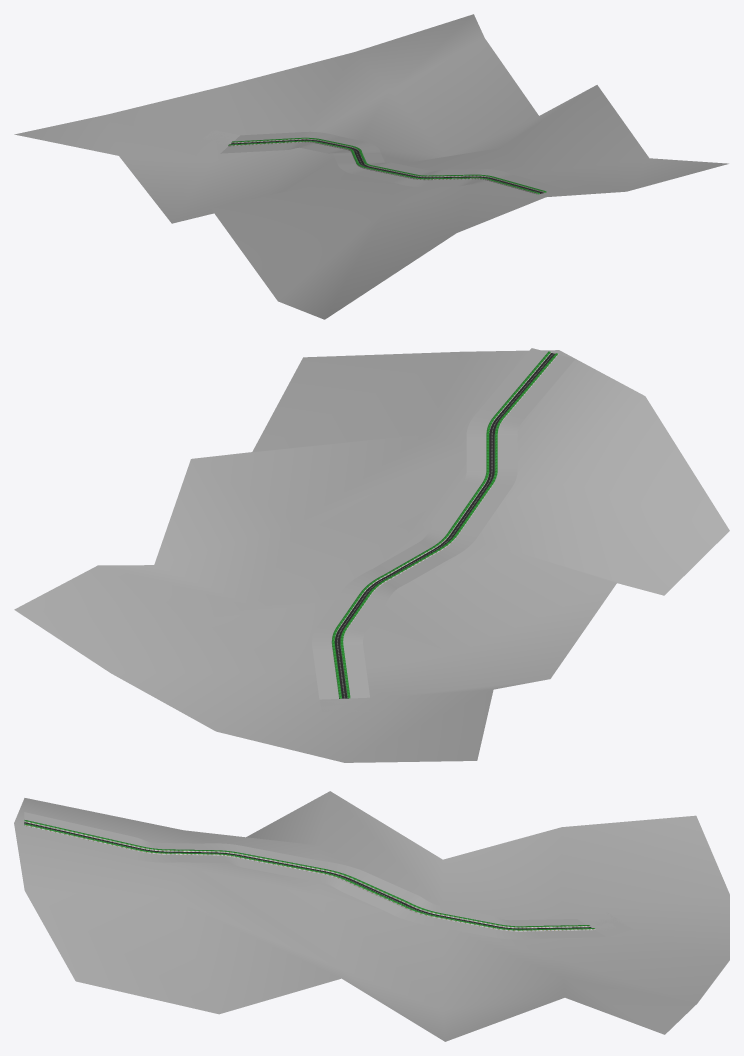
Rendered from OBJ_Course_Spring.fbx.
3 views of the same model, one above another, from view 1: azimuth 30°, elevation 25°; view 2: azimuth 150°, elevation 25°; view 3: azimuth 270°, elevation 25° (orthographic). The views are drawn at different scales.
Parts seen in each view (by area): view 1: OBJ_Course_easy1_0042:ambientLight2; view 2: OBJ_Course_easy1_0042:ambientLight2; view 3: OBJ_Course_easy1_0042:ambientLight2.
Boxes of the visible parts, left/top/right/bottom form: OBJ_Course_easy1_0042:ambientLight2: left=14, top=14, right=728, bottom=319; OBJ_Course_easy1_0042:ambientLight2: left=14, top=348, right=729, bottom=762; OBJ_Course_easy1_0042:ambientLight2: left=14, top=791, right=729, bottom=1041.
Bounding box in the file's own units: 485 × 128 × 602.
Materials: 3 (2 with a texture image).
